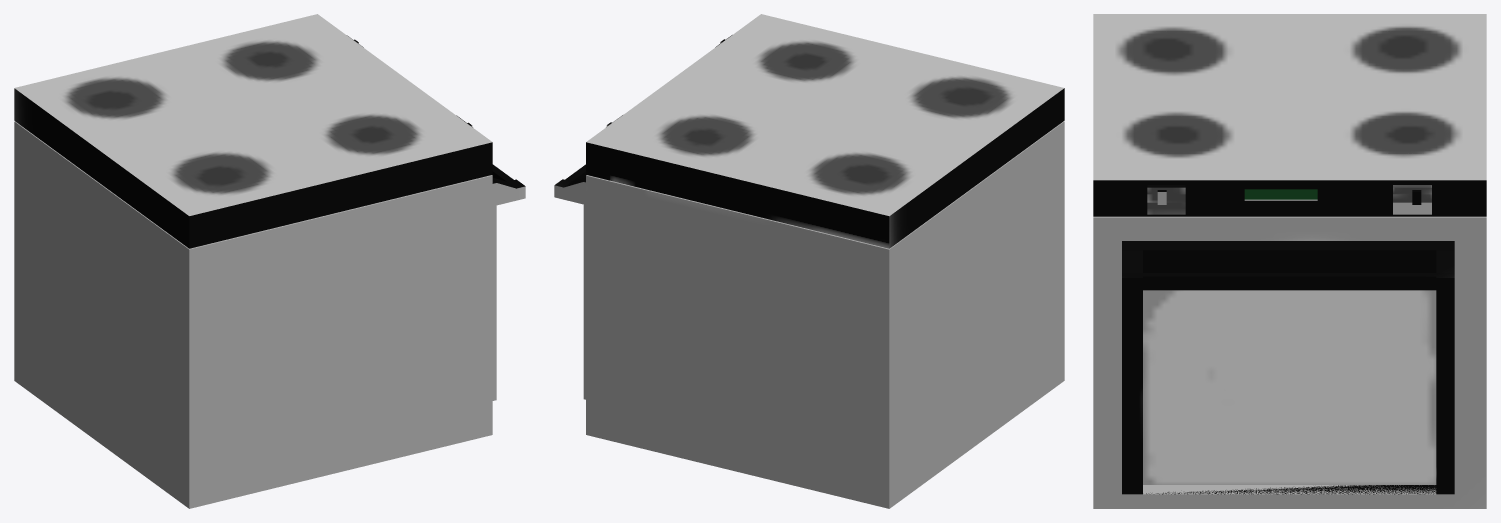
The model's file is Oven.fbx.
The picture shows the model from 3 angles, left to right: view 1: azimuth 30°, elevation 25°; view 2: azimuth 150°, elevation 25°; view 3: azimuth 270°, elevation 25°; orthographic projection. The views are drawn at different scales.
Parts seen in each view (by area): view 1: Oven/Stove; view 2: Oven/Stove; view 3: Oven/Stove.
Boxes of the visible parts, bbox=[...] form: Oven/Stove: bbox=[14, 14, 525, 508]; Oven/Stove: bbox=[554, 14, 1064, 508]; Oven/Stove: bbox=[1093, 14, 1486, 508].
Size of the model in its own units: 230 by 188 by 200.
1 material, 1 textured.
